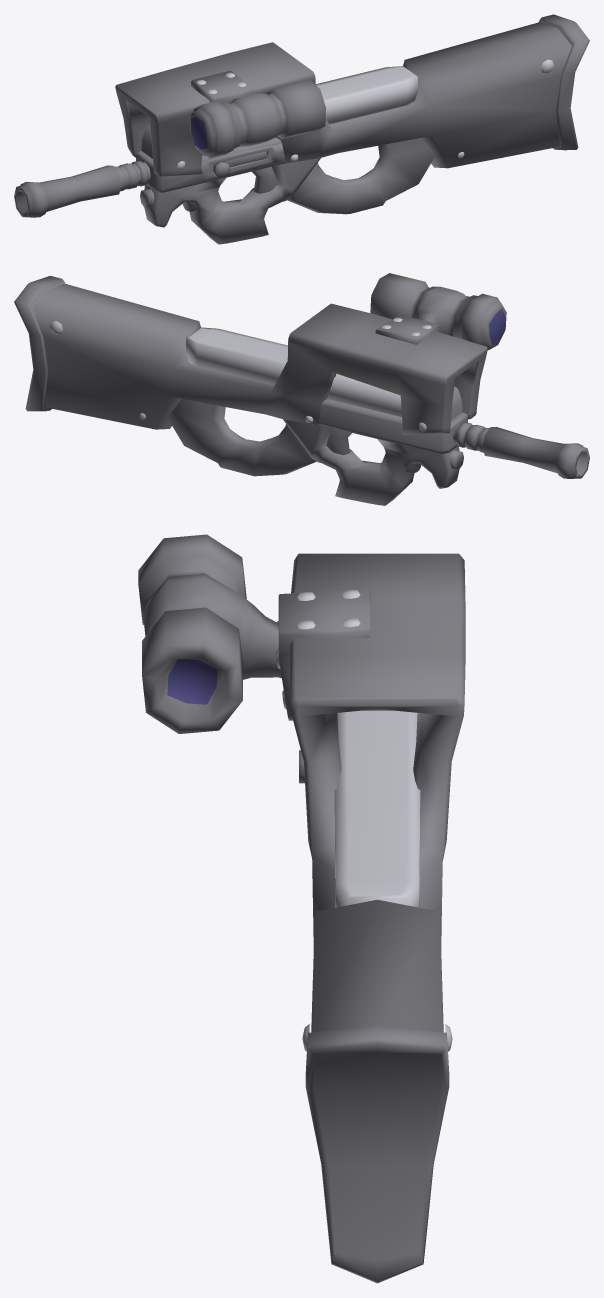
3 renders of one model, top to bottom at view 1: azimuth 30°, elevation 25°; view 2: azimuth 150°, elevation 25°; view 3: azimuth 270°, elevation 25°, orthographic. The views are drawn at different scales.
Visible parts, largest first — view 1: Cube.017, Cube.023, Plane.002, Plane.001, Cube.016, Cube.022, Cube.019, Cube.033, Cube.020, Cube.021, Cube.027; view 2: Cube.017, Plane.002, Cube.016, Cube.023, Plane.001, Cube.019, Cube.022, Cube.033, Cube.020, Cube.021; view 3: Cube.017, Cube.023, Cube.016, Cube.033.
Part boxes in pixels (box(x1,y1,x2,y2)): Cube.017: box(115, 14, 589, 176); Cube.023: box(190, 80, 326, 158); Plane.002: box(144, 158, 320, 244); Plane.001: box(287, 137, 435, 214); Cube.016: box(202, 66, 417, 155); Cube.022: box(14, 165, 121, 217); Cube.019: box(136, 137, 285, 192); Cube.033: box(191, 70, 255, 103); Cube.020: box(114, 161, 150, 191); Cube.021: box(252, 167, 277, 193); Cube.027: box(214, 151, 266, 167); Cube.017: box(14, 276, 487, 434); Plane.002: box(283, 419, 459, 505); Cube.016: box(186, 327, 401, 416); Cube.023: box(370, 273, 506, 350); Plane.001: box(167, 399, 316, 476); Cube.019: box(318, 399, 467, 454); Cube.022: box(482, 427, 589, 478); Cube.033: box(375, 314, 440, 344); Cube.020: box(453, 422, 489, 452); Cube.021: box(326, 428, 351, 455); Cube.017: box(289, 553, 465, 1283); Cube.023: box(138, 534, 281, 733); Cube.016: box(334, 710, 420, 907); Cube.033: box(278, 589, 370, 720).
Size of the model in its own units: 68.27 by 21.88 by 17.43.
